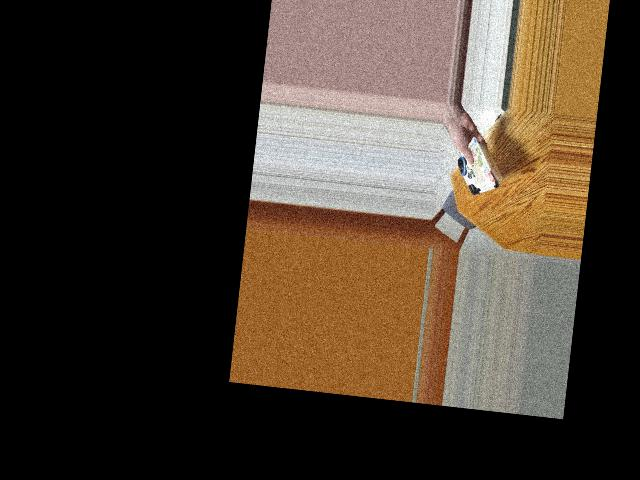cheese: (452, 139, 515, 202)
